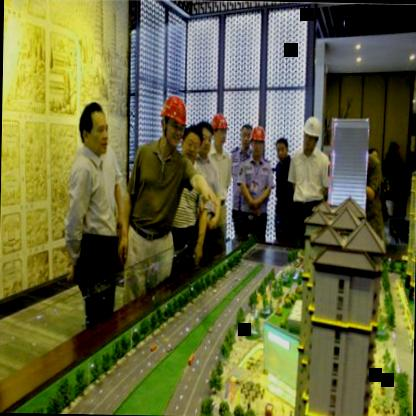head: (77, 99, 110, 156), (180, 124, 200, 167), (193, 120, 213, 162), (274, 136, 290, 165), (239, 121, 254, 150)
helmet: (160, 92, 186, 146), (302, 113, 324, 154), (250, 119, 268, 162), (210, 111, 228, 150)
